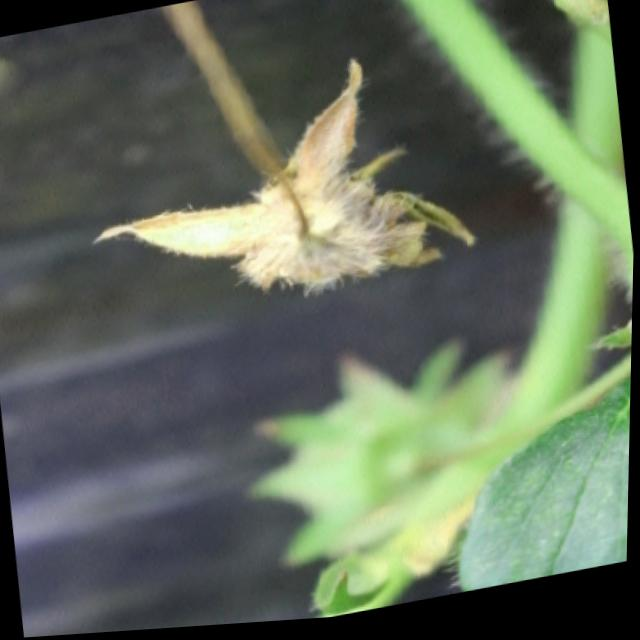Gray Mold: (95, 61, 477, 302)
